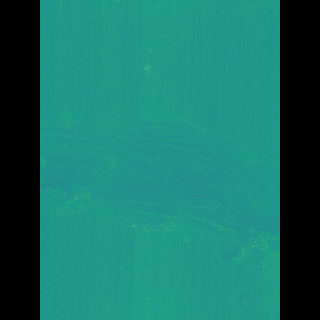Loch: (69, 109, 249, 262)
